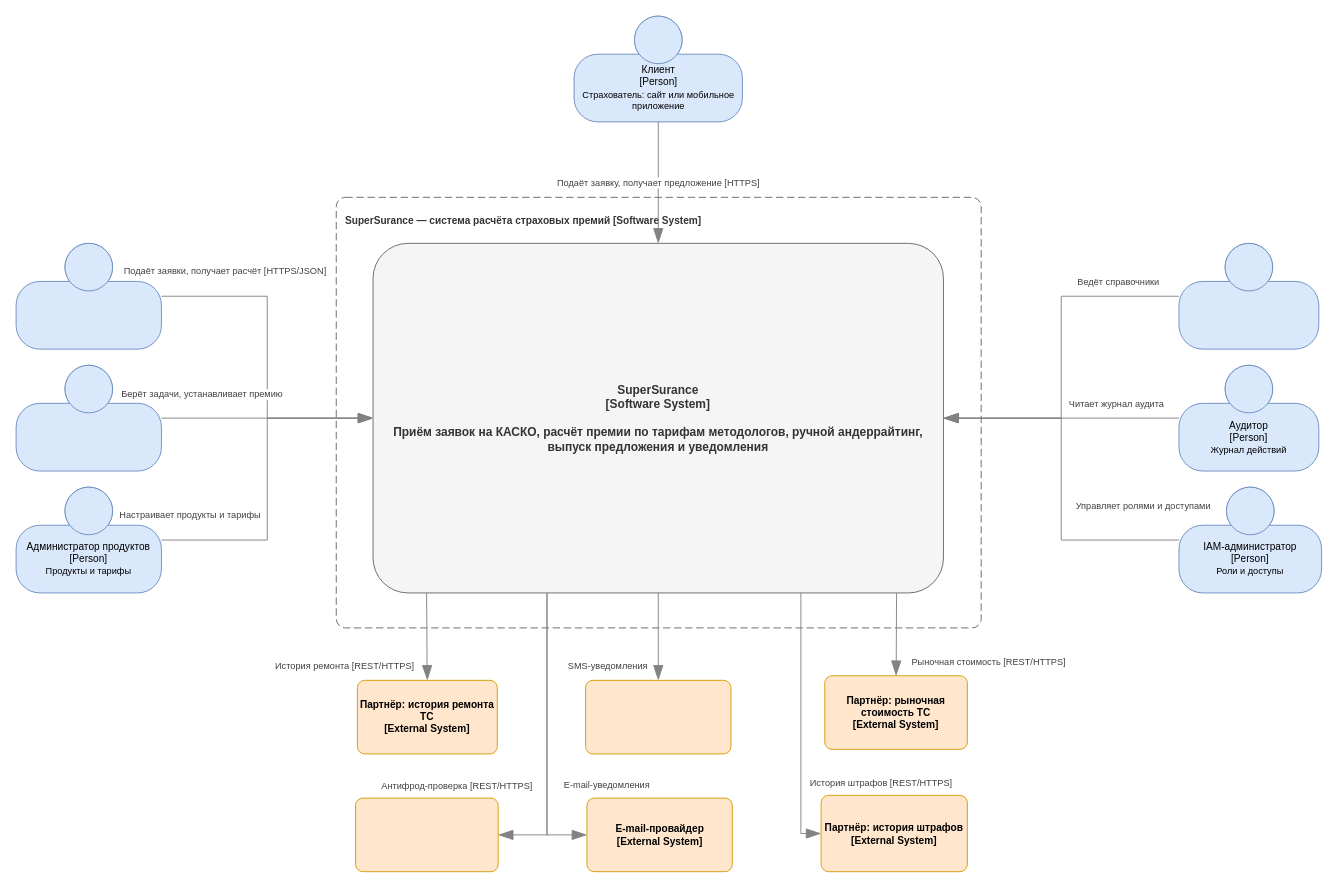
Image size: 1338x888. Some labels were removed from this diagram. The centre of each missing label's shape, as x and y in pixels:
"SMS-провайдер [External System]" goes at pixel 658 716.
"Администратор НСИ [Person] Справочники" goes at pixel 1248 295.
"Андеррайтер [Person] Ручной расчёт и решение" goes at pixel 88 417.
"Партнёр по продажам [Person] Агент или брокер" goes at pixel 88 295.
"Партнёр: антифрод [External System]" goes at pixel 426 834.
